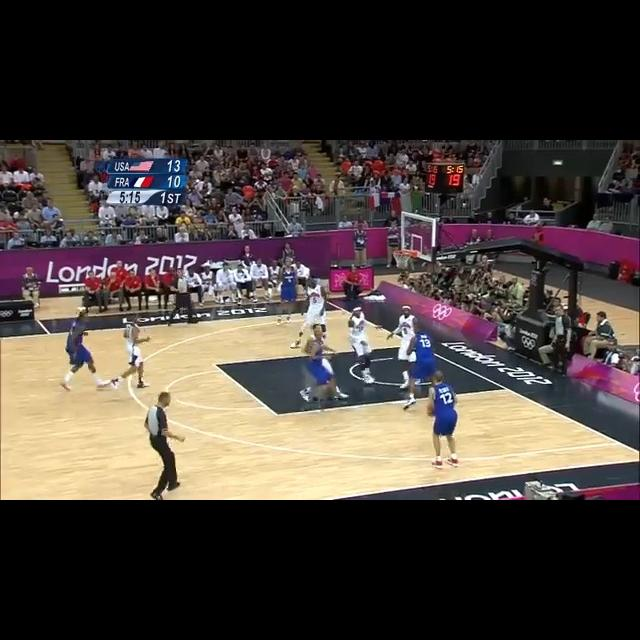basketball: (426, 404, 440, 416)
hoop: (390, 251, 413, 270)
person: (428, 370, 459, 466), (21, 266, 41, 306), (104, 228, 123, 245)
